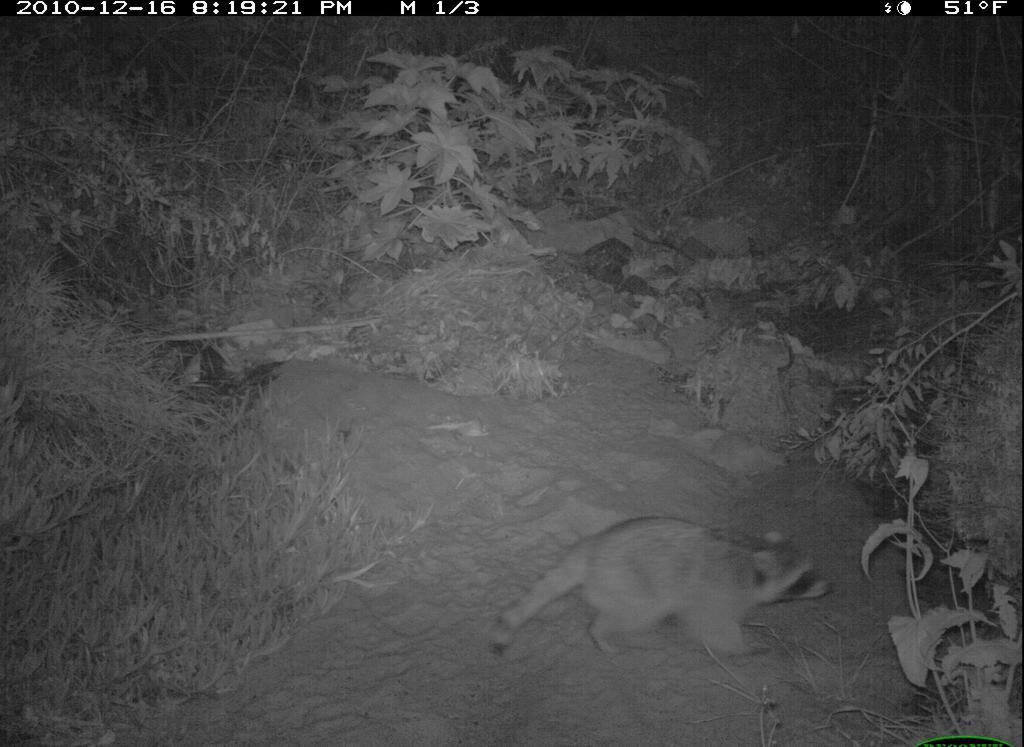raccoon: (492, 516, 838, 671)
